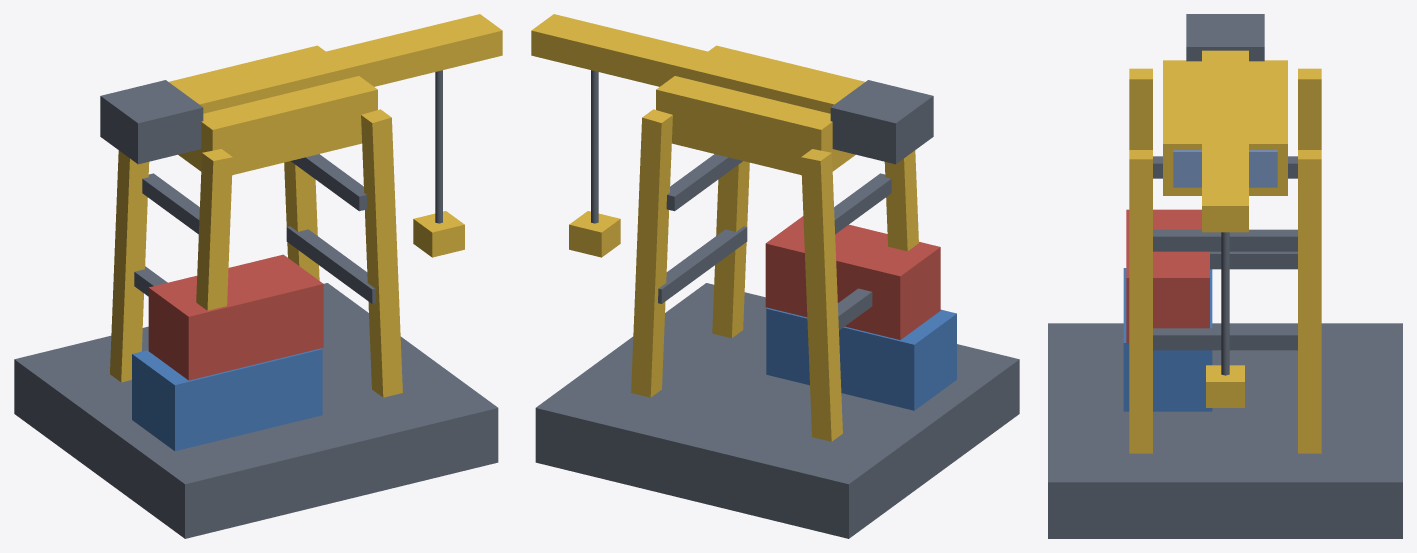
File: prop_harbor_crane.glb
The picture shows the model from 3 angles, left to right: view 1: azimuth 30°, elevation 25°; view 2: azimuth 150°, elevation 25°; view 3: azimuth 270°, elevation 25°; orthographic projection. The views are drawn at different scales.
Parts seen in each view (by area): view 1: PropHarborCrane; view 2: PropHarborCrane; view 3: PropHarborCrane.
Part boxes in pixels (x1,y1,x2,y2): PropHarborCrane: (14, 14, 502, 538); PropHarborCrane: (531, 14, 1019, 538); PropHarborCrane: (1048, 14, 1402, 538).
Bounding box in the file's own units: 0.9 × 0.795 × 0.68.
